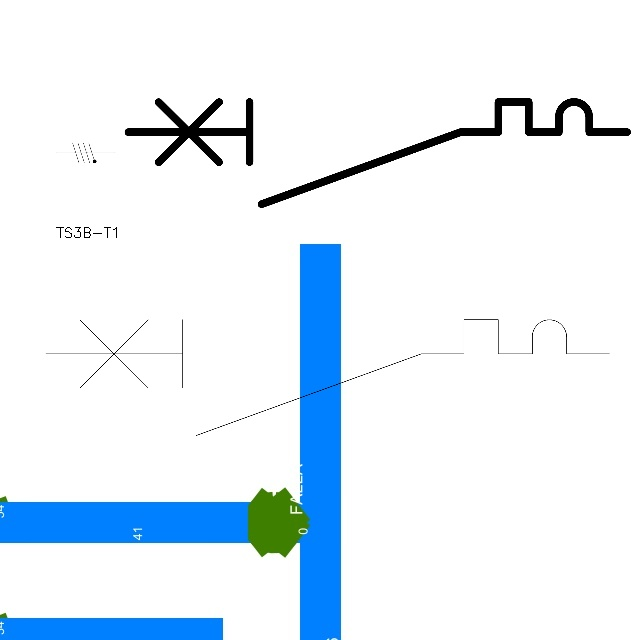interruptor_termomagnetico: (31, 305, 624, 450), (115, 89, 639, 217)
